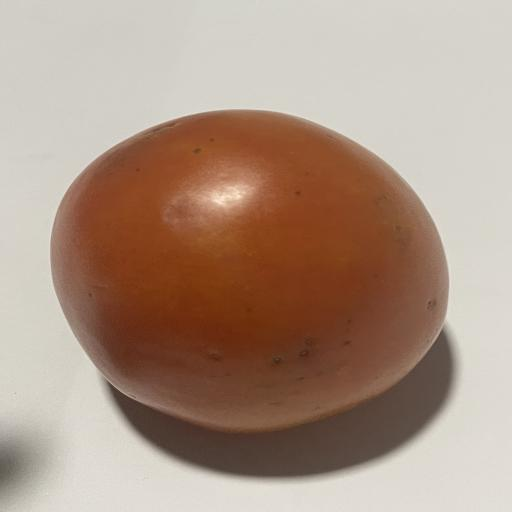unripe: (51, 110, 448, 432)
